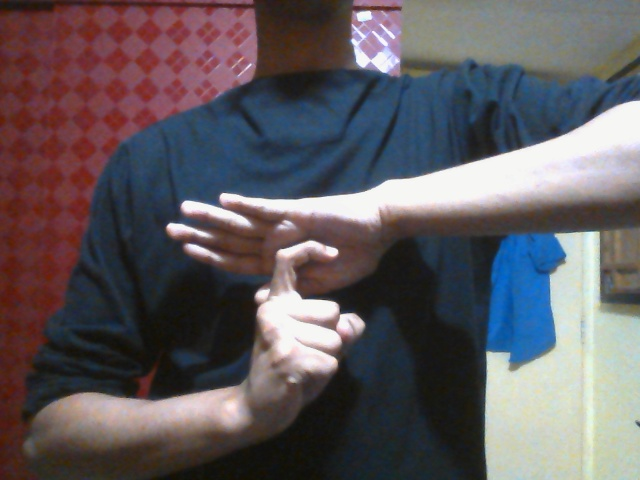R: (164, 189, 394, 424)
